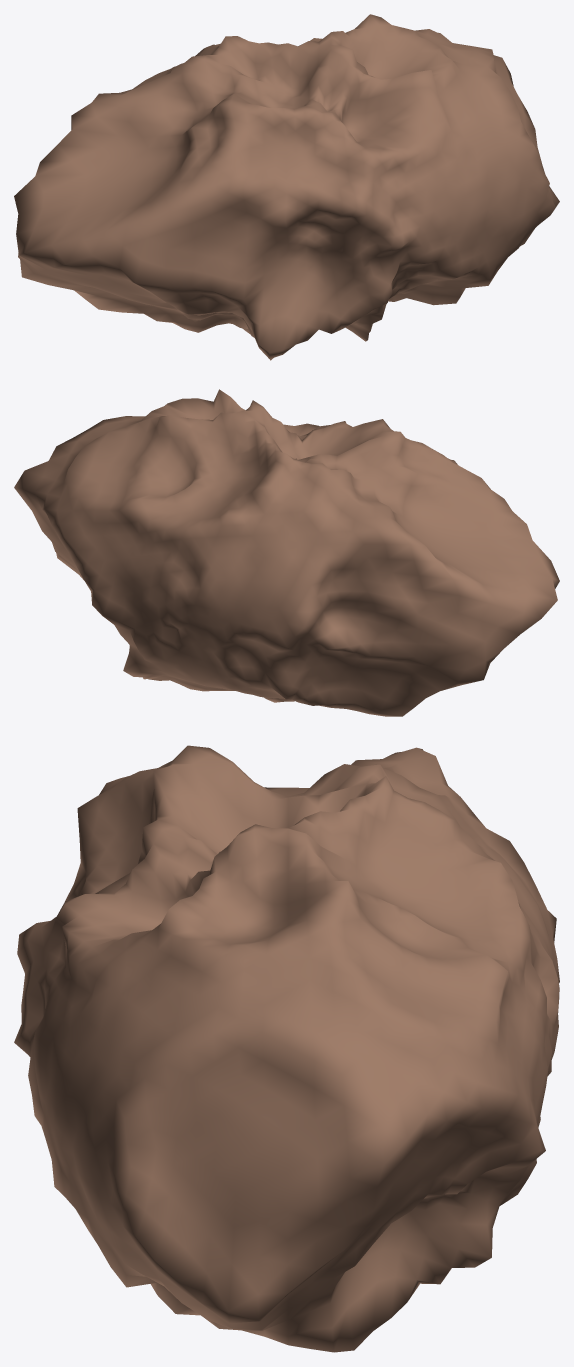
The model's file is Amalthea.fbx.
3 views of the same model, one above another, from view 1: azimuth 30°, elevation 25°; view 2: azimuth 150°, elevation 25°; view 3: azimuth 270°, elevation 25° (orthographic). The views are drawn at different scales.
Parts seen in each view (by area): view 1: AmaltheaSurface; view 2: AmaltheaSurface; view 3: AmaltheaSurface.
Part boxes in pixels (x1,y1,x2,y2): AmaltheaSurface: [14, 14, 559, 360]; AmaltheaSurface: [14, 389, 559, 716]; AmaltheaSurface: [14, 745, 559, 1352].
Bounding box in the file's own units: 3.35 × 1.71 × 1.89.
